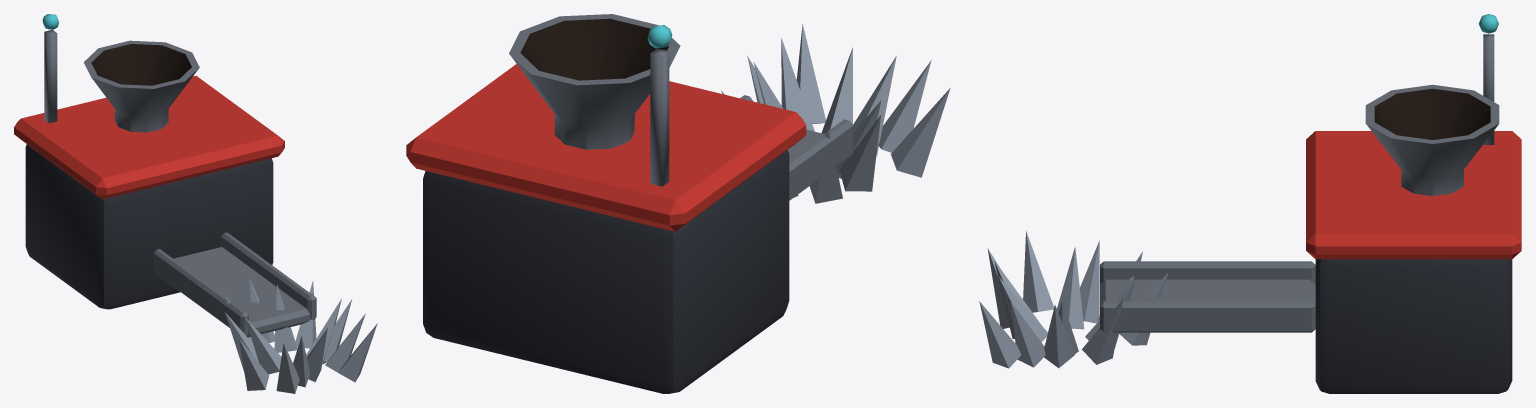
The picture shows the model from 3 angles, left to right: view 1: azimuth 30°, elevation 25°; view 2: azimuth 150°, elevation 25°; view 3: azimuth 270°, elevation 25°; orthographic projection. The views are drawn at different scales.
Parts seen in each view (by area): view 1: espinhos_0_base, espinhos_1_torreta; view 2: espinhos_0_base, espinhos_1_torreta; view 3: espinhos_0_base, espinhos_1_torreta.
Part boxes in pixels (x1,y1,x2,y2): espinhos_0_base: (14,14,377,393); espinhos_1_torreta: (153,232,316,337); espinhos_0_base: (406,14,950,393); espinhos_1_torreta: (740,95,852,200); espinhos_0_base: (979,14,1521,393); espinhos_1_torreta: (1100,261,1315,332).
Bounding box in the file's own units: 0.56 × 0.6918 × 1.16.
